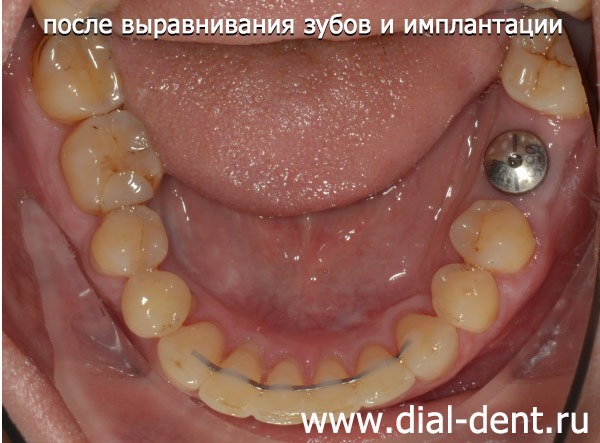LL1BC_decay: (432, 266, 497, 329)
LL1M_decay: (480, 120, 559, 199)
LL2BC_decay: (449, 203, 536, 269)
LL2M_decay: (503, 38, 580, 111)
LLCI_decay: (307, 363, 352, 412)
LLC_decay: (396, 316, 456, 373)
LLLI_decay: (358, 350, 409, 405)
LR1BC_healthy: (126, 276, 185, 322)
LR1M_decay: (61, 113, 162, 204)
LR2BC_decay: (97, 209, 167, 273)
LR2M_decay: (38, 39, 119, 114)
LRCI_decay: (257, 366, 301, 422)
LRC_decay: (159, 327, 218, 385)
LRLI_decay: (209, 352, 257, 420)
